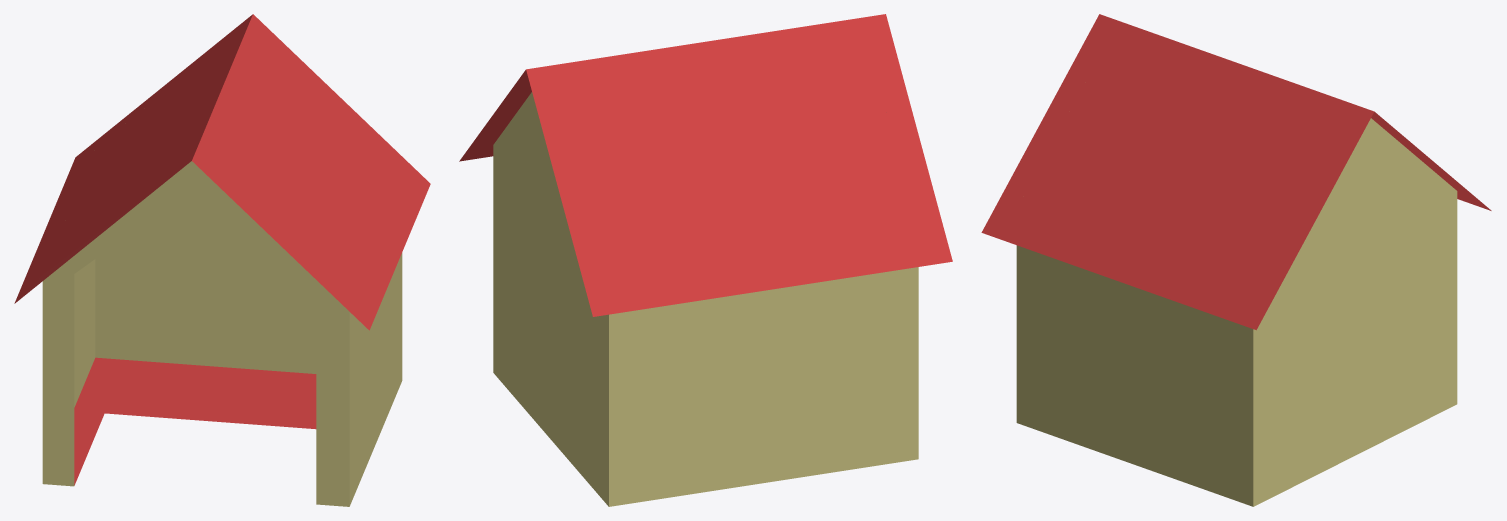
The picture shows the model from 3 angles, left to right: view 1: azimuth 30°, elevation 25°; view 2: azimuth 150°, elevation 25°; view 3: azimuth 270°, elevation 25°; orthographic projection. The views are drawn at different scales.
Bounding box in the file's own units: 20.51 × 20.47 × 15.51.
